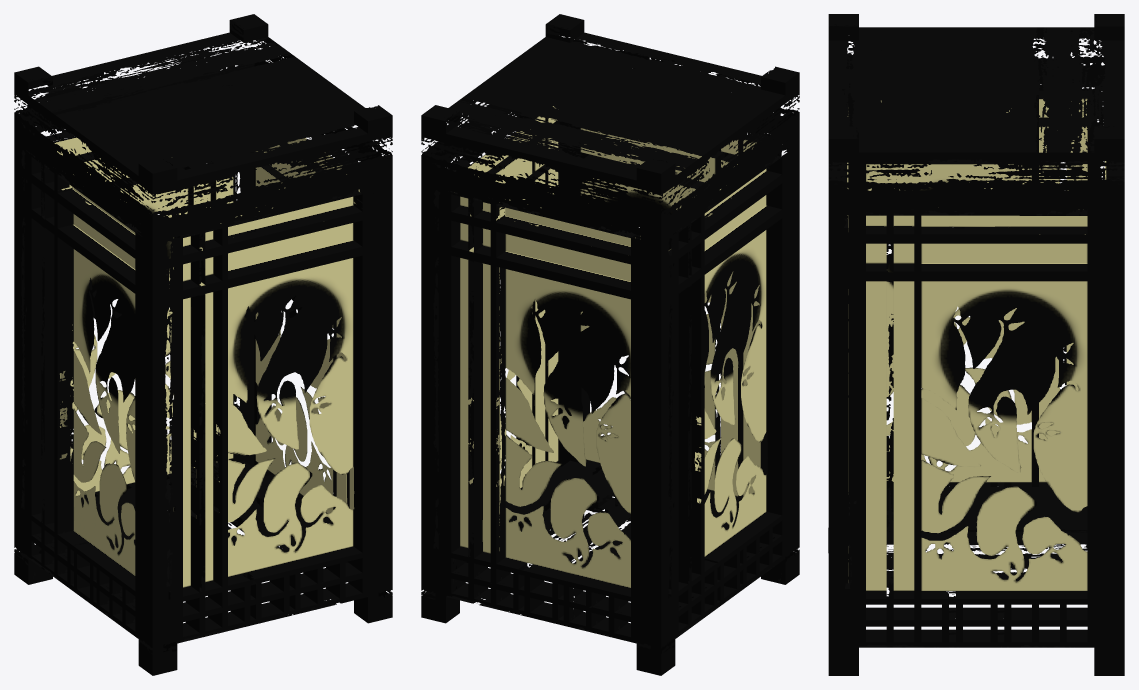
The model's file is lampjapan.fbx.
3 renders of one model, left to right at view 1: azimuth 30°, elevation 25°; view 2: azimuth 150°, elevation 25°; view 3: azimuth 270°, elevation 25°, orthographic. The views are drawn at different scales.
Visible parts, largest first — view 1: lamp; view 2: lamp; view 3: lamp.
Boxes of the visible parts, left/top/right/bottom form: lamp: left=14, top=14, right=392, bottom=675; lamp: left=421, top=14, right=799, bottom=675; lamp: left=828, top=14, right=1124, bottom=675.
Bounding box in the file's own units: 0.3 × 0.6 × 0.3005.
1 material, 1 textured.
